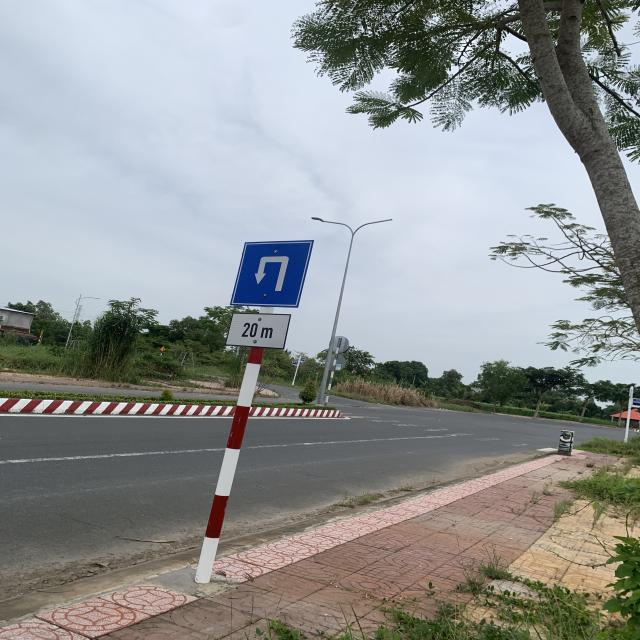Den_Giao_Thong: (232, 241, 315, 307)
